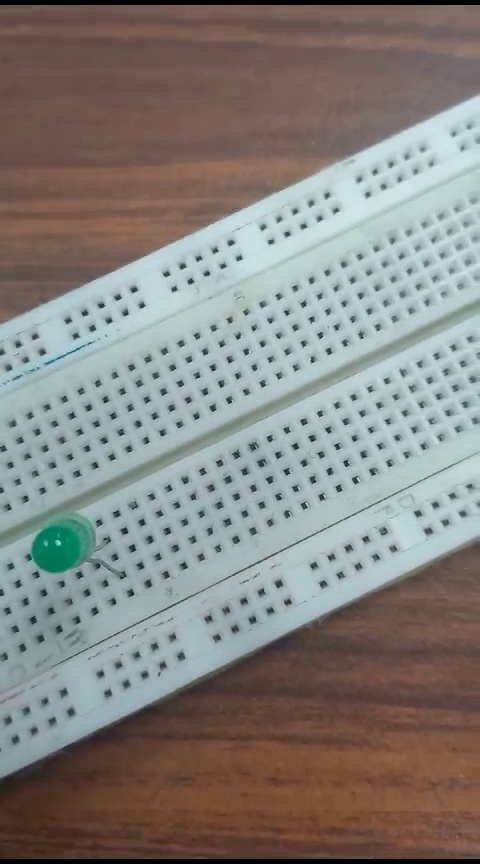LED: (30, 511, 127, 607)
